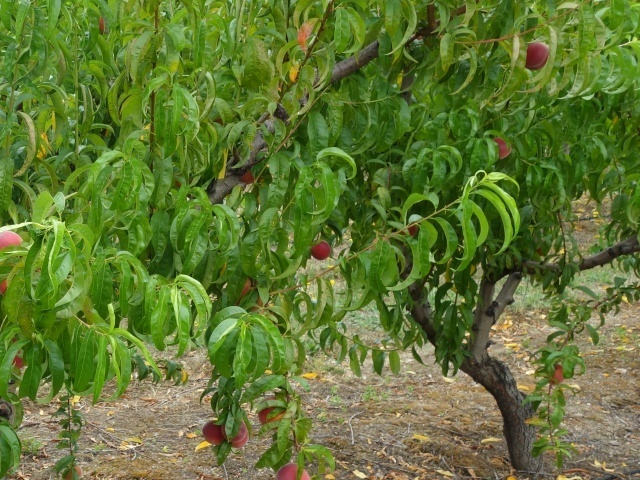peach: (521, 34, 554, 78), (255, 392, 290, 426), (484, 131, 514, 162), (217, 413, 249, 442), (1, 223, 26, 260), (197, 417, 227, 446), (272, 459, 313, 479), (307, 237, 334, 264), (545, 361, 567, 387)
